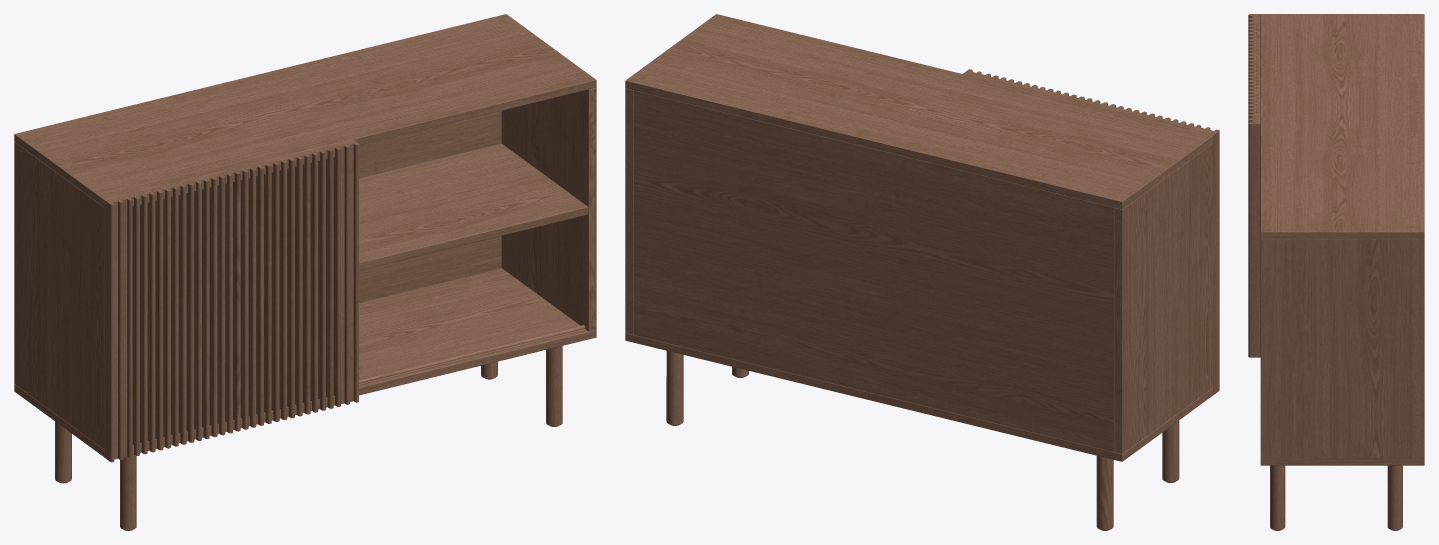
The model's file is cabinet.obj.
3 renders of one model, left to right at view 1: azimuth 30°, elevation 25°; view 2: azimuth 150°, elevation 25°; view 3: azimuth 270°, elevation 25°, orthographic. The views are drawn at different scales.
Parts seen in each view (by area): view 1: Orton; view 2: Orton; view 3: Orton.
Part boxes in pixels (left/top/right/bottom): Orton: left=14, top=14, right=596, bottom=530; Orton: left=625, top=14, right=1219, bottom=530; Orton: left=1248, top=14, right=1424, bottom=530.
Size of the model in its own units: 1200 by 800 by 410.
